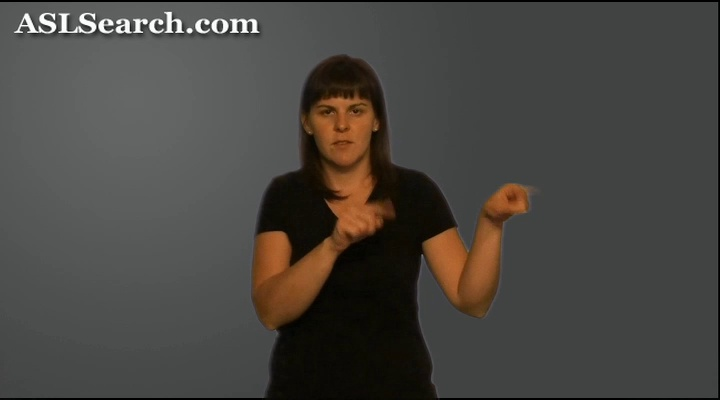go: (292, 170, 552, 255)
